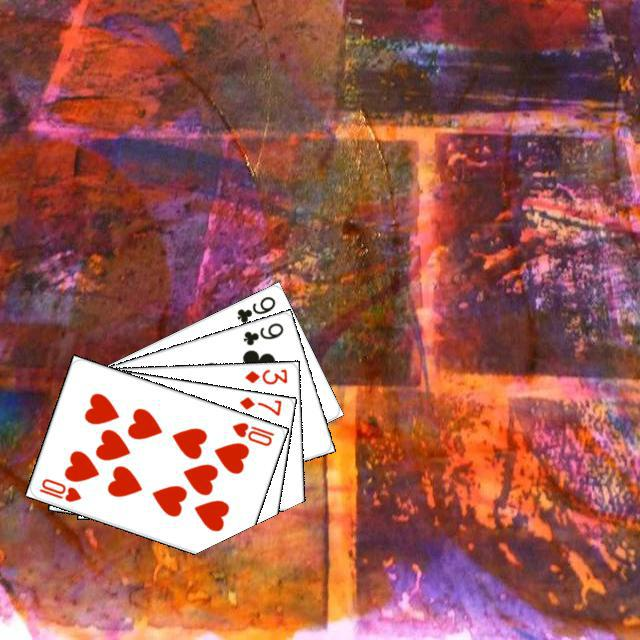10h: (227, 417, 276, 448), (34, 473, 83, 504)
3d: (240, 364, 289, 386)
7d: (234, 392, 283, 417)
9c: (232, 291, 277, 324), (238, 318, 285, 347)
